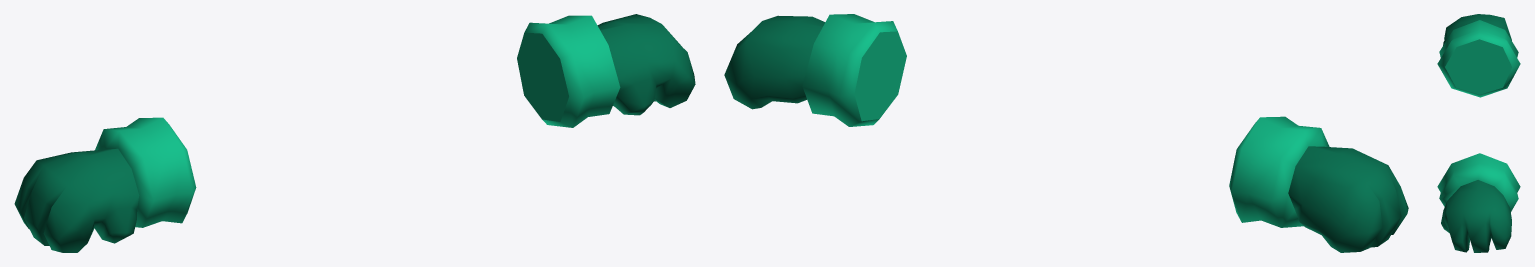
The model's file is Glove_25.fbx.
3 renders of one model, left to right at view 1: azimuth 30°, elevation 25°; view 2: azimuth 150°, elevation 25°; view 3: azimuth 270°, elevation 25°, orthographic. The views are drawn at different scales.
Parts seen in each view (by area): view 1: Glove_25; view 2: Glove_25; view 3: Glove_25.
Part boxes in pixels (x1,y1,x2,y2): Glove_25: (14,14,695,252); Glove_25: (724,14,1408,252); Glove_25: (1437,14,1520,252).
Size of the model in its own units: 133 by 19.74 by 22.85.
